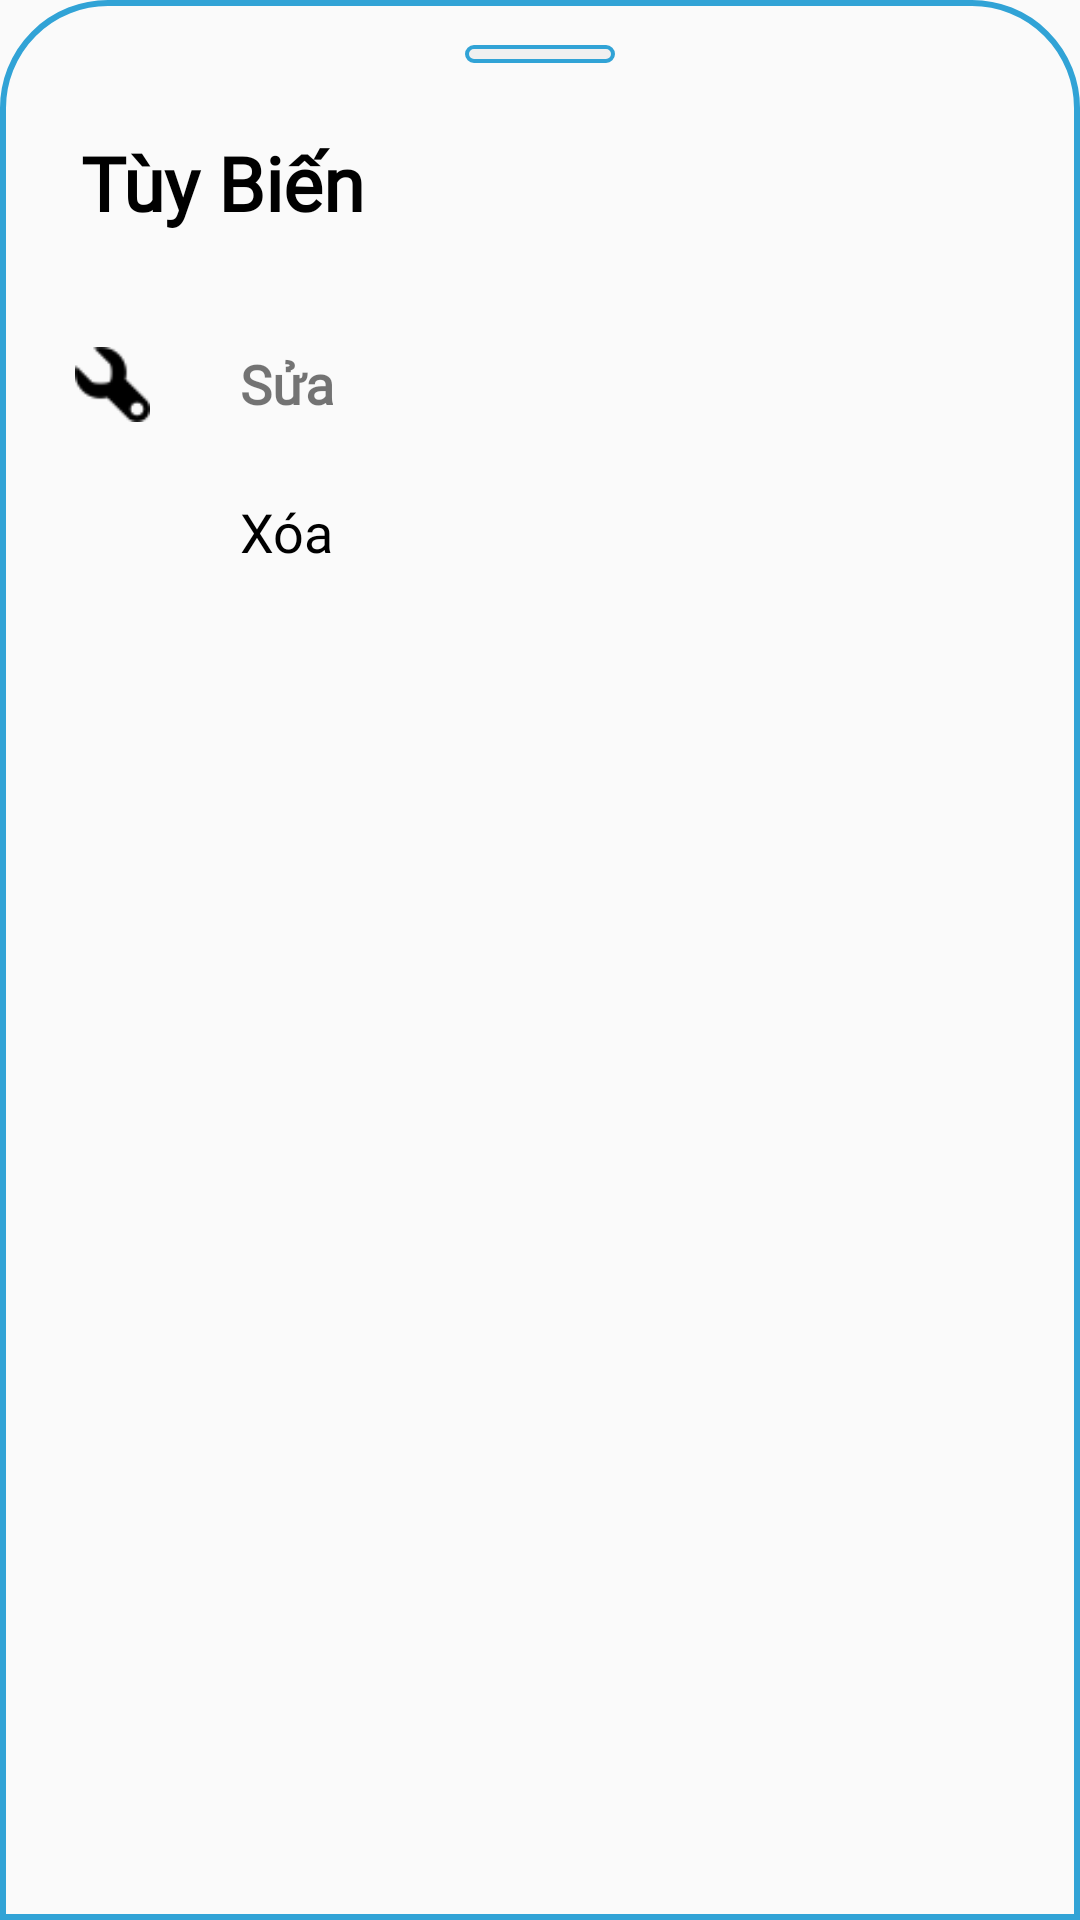

Icon click points for this 1080 x 1920 phone screenshot, format point (x, y):
setting: point (112, 384)
